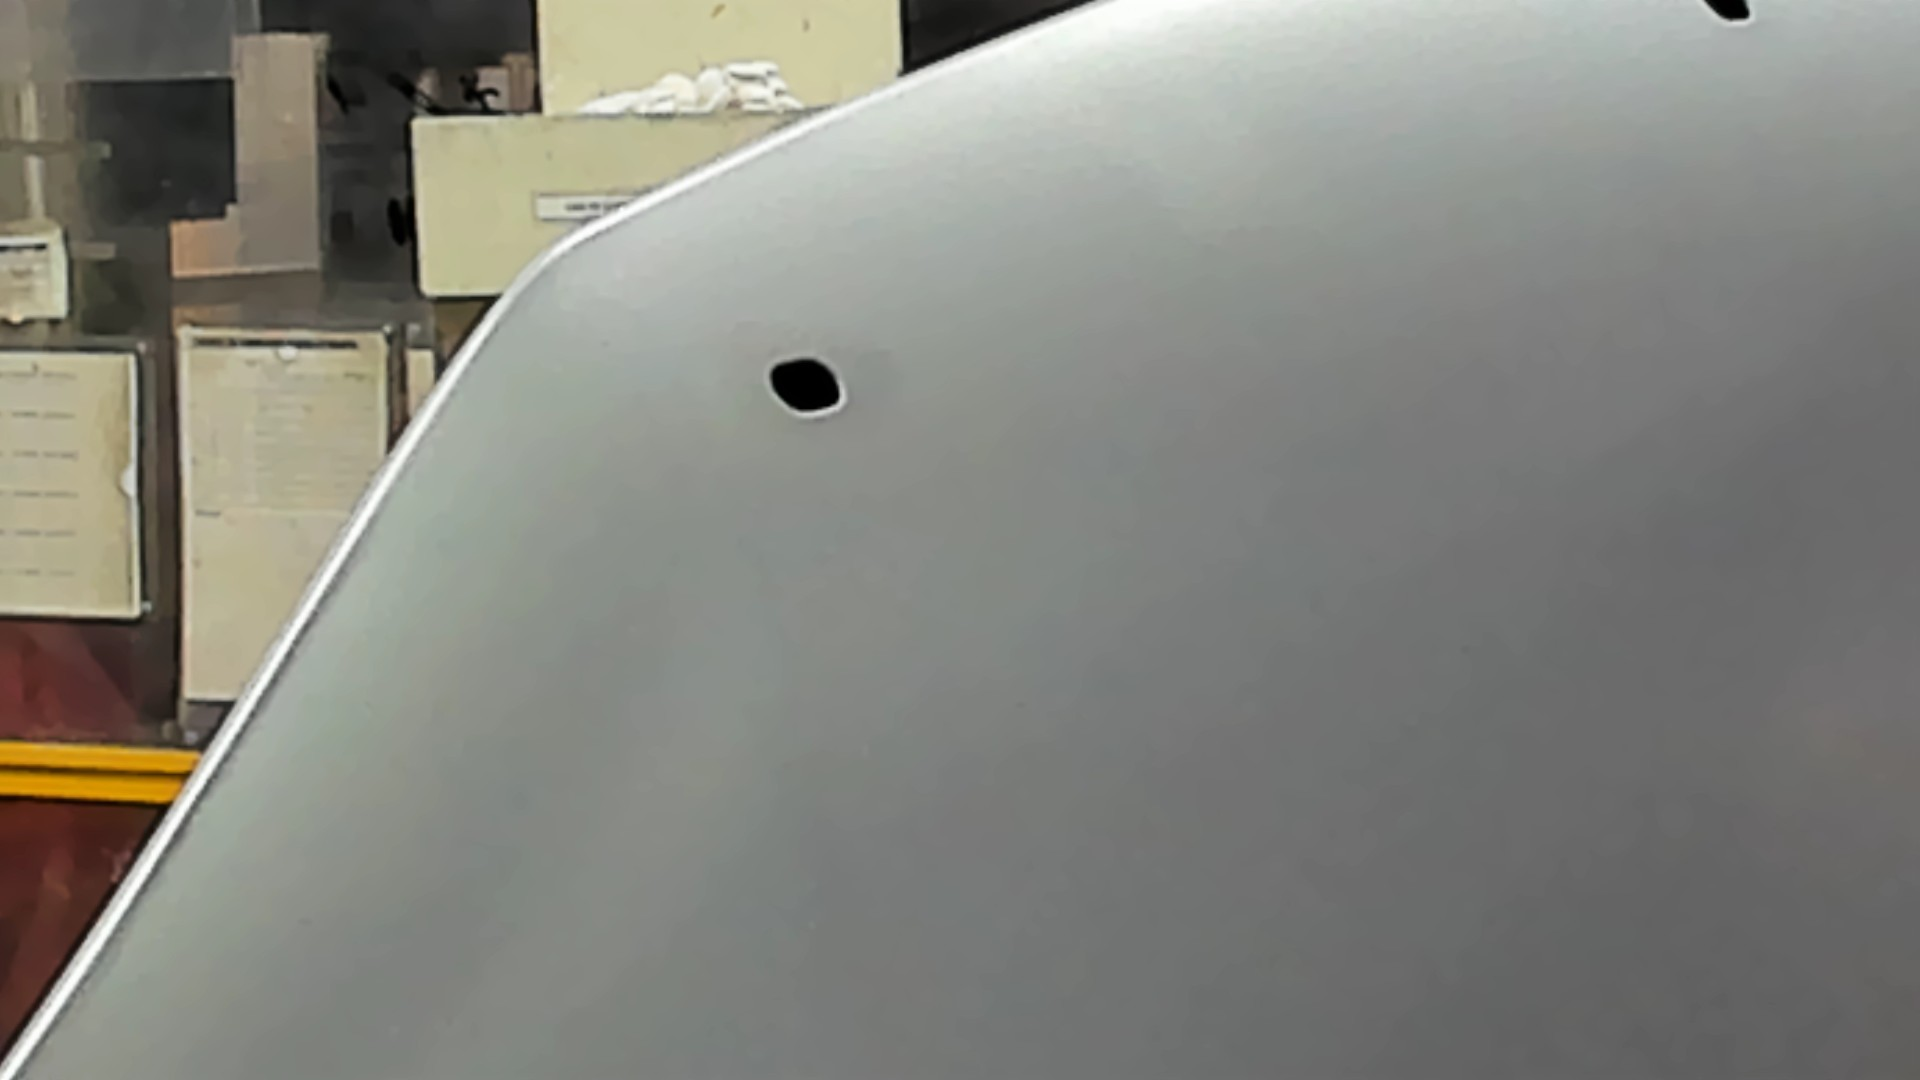amorfo: (760, 349, 858, 419), (1697, 1, 1760, 28)
capo: (930, 102, 1920, 1080)
